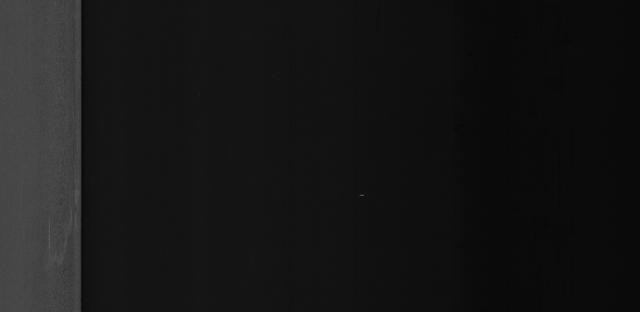silk_spot: (36, 172, 73, 277)
